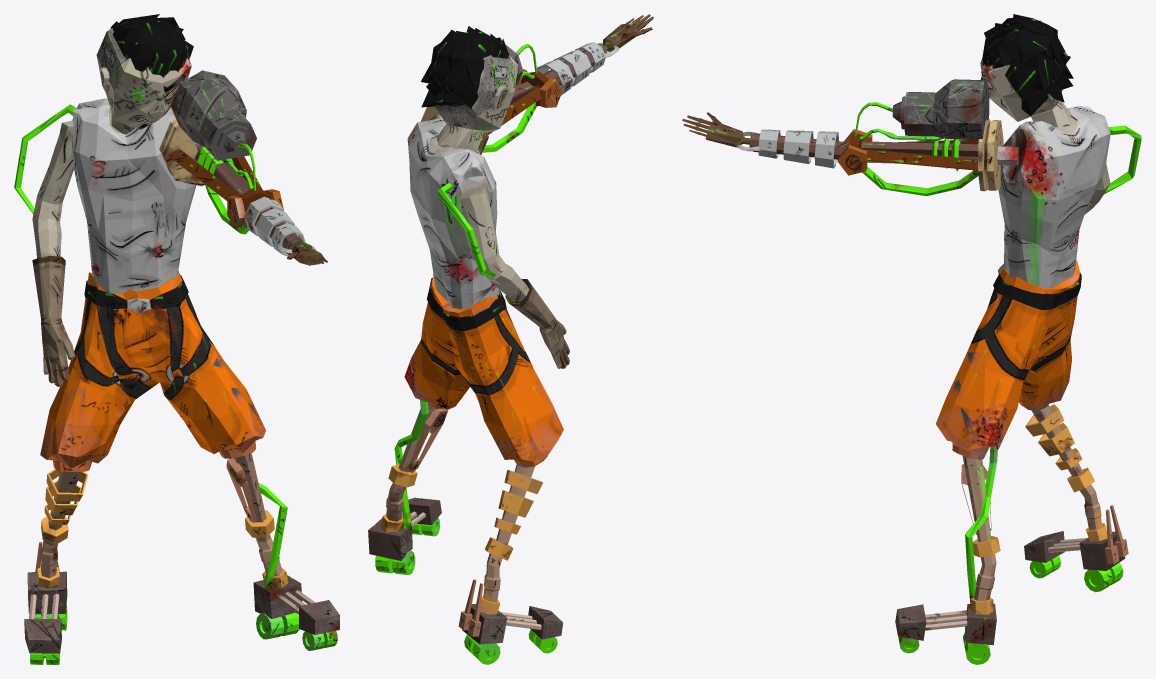
File: CyborgFINALAnimation_000129.obj
3 views of the same model, side by side, from view 1: azimuth 30°, elevation 25°; view 2: azimuth 150°, elevation 25°; view 3: azimuth 270°, elevation 25° (orthographic). The views are drawn at different scales.
Visible parts, largest first — view 1: CyborgMesh_Cube.002; view 2: CyborgMesh_Cube.002; view 3: CyborgMesh_Cube.002.
Boxes of the visible parts, x1,y1,x2,y2 form: CyborgMesh_Cube.002: [14, 14, 339, 664]; CyborgMesh_Cube.002: [368, 14, 653, 664]; CyborgMesh_Cube.002: [682, 14, 1141, 664].
Size of the model in its own units: 3.73 by 9.44 by 6.62.
